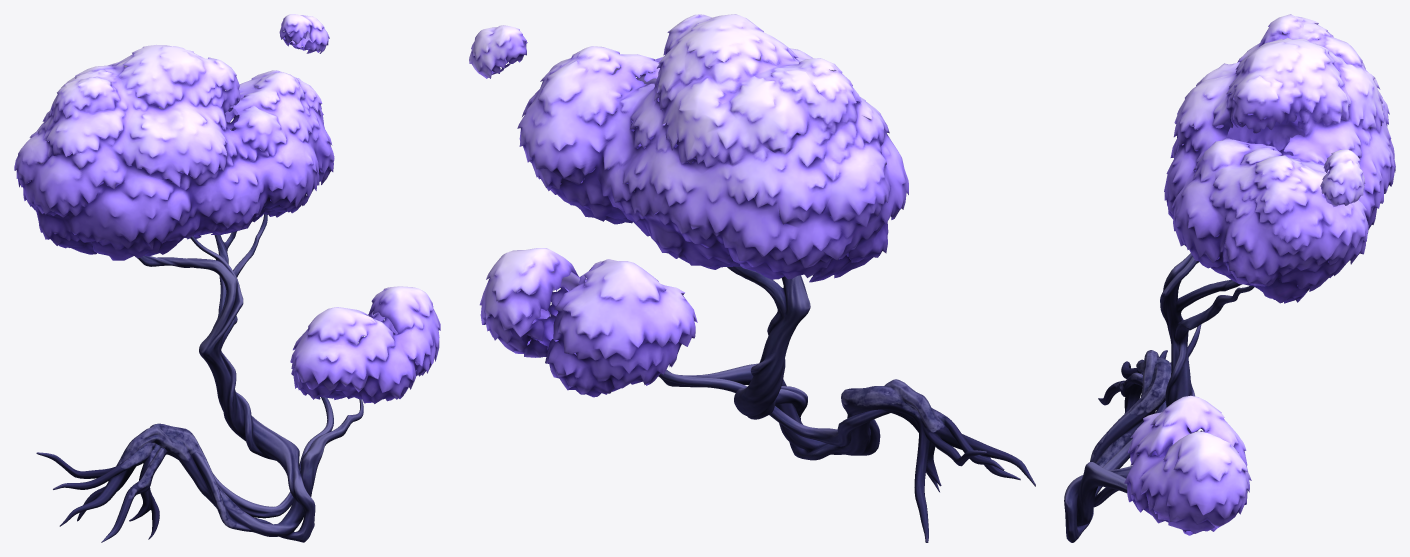
Rendered from sky_tree_02a_nexus.glb.
3 views of the same model, side by side, from view 1: azimuth 30°, elevation 25°; view 2: azimuth 150°, elevation 25°; view 3: azimuth 270°, elevation 25° (orthographic). The views are drawn at different scales.
Visible parts, largest first — view 1: tree_02a; view 2: tree_02a; view 3: tree_02a.
Boxes of the visible parts, <box> form: tree_02a: <box>14,14,440,542</box>; tree_02a: <box>469,14,1035,542</box>; tree_02a: <box>1064,14,1395,542</box>.
Bounding box in the file's own units: 12.23 × 12.24 × 7.72.
Materials: 2 (2 with a texture image).
